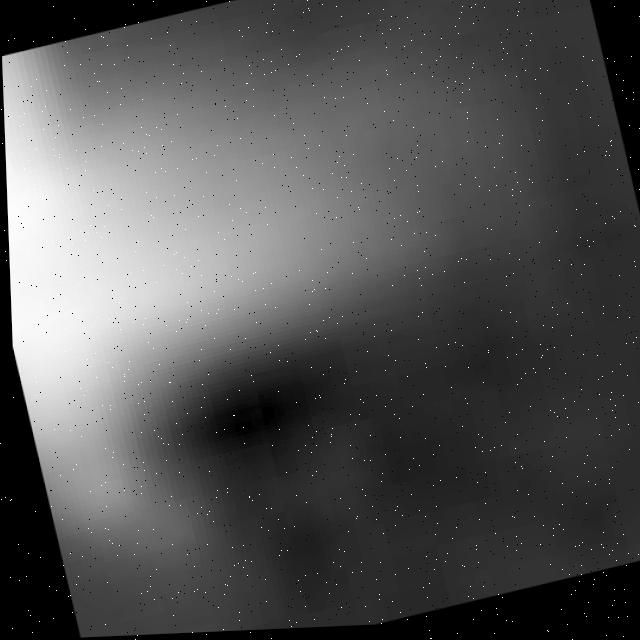person: (2, 36, 464, 433)
